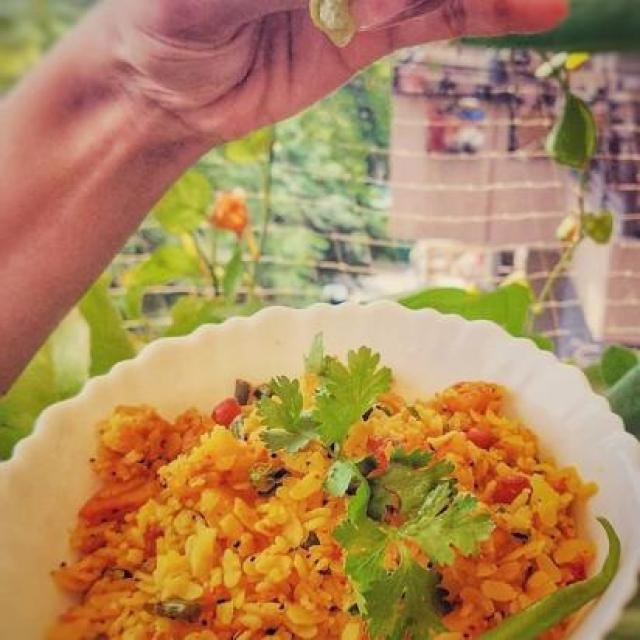poha: (81, 386, 608, 622)
